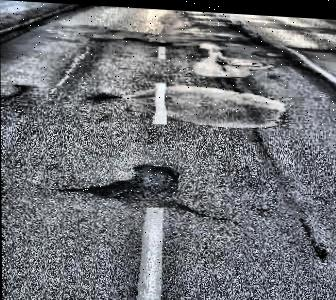pothole: (90, 157, 184, 208), (153, 36, 170, 45), (122, 34, 141, 40)
